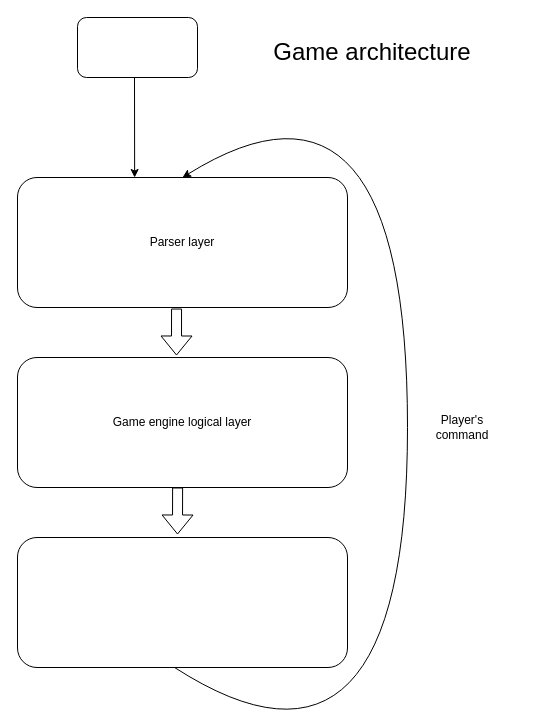
The diagram is 555 pixels wide and 727 high, and some of its shapes have lost their labels. The shapes that lost their labels are listed below. From the top down, each one's box as (x1, y1, x2, y2) in pixels, then its label:
(76, 16, 198, 78): Enter game and Selection of player
(16, 536, 348, 668): Option menu (User interface)
